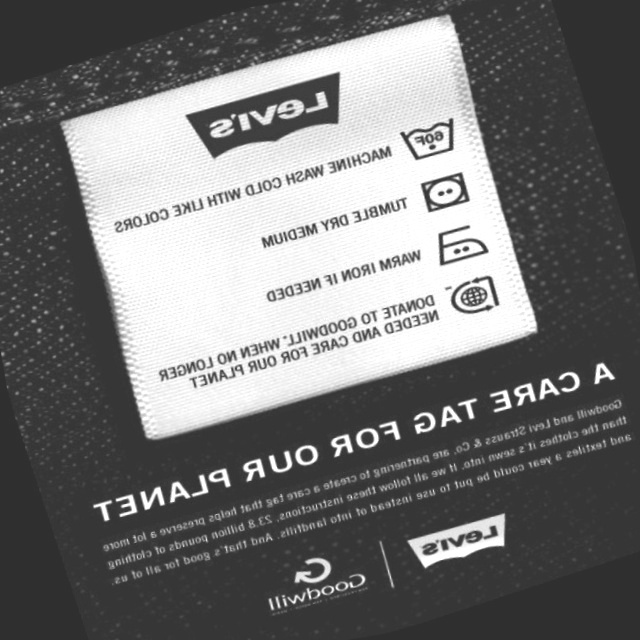30C: (391, 105, 468, 172)
iron_medium: (423, 212, 496, 276)
tumble_dry_medium: (411, 165, 480, 222)
